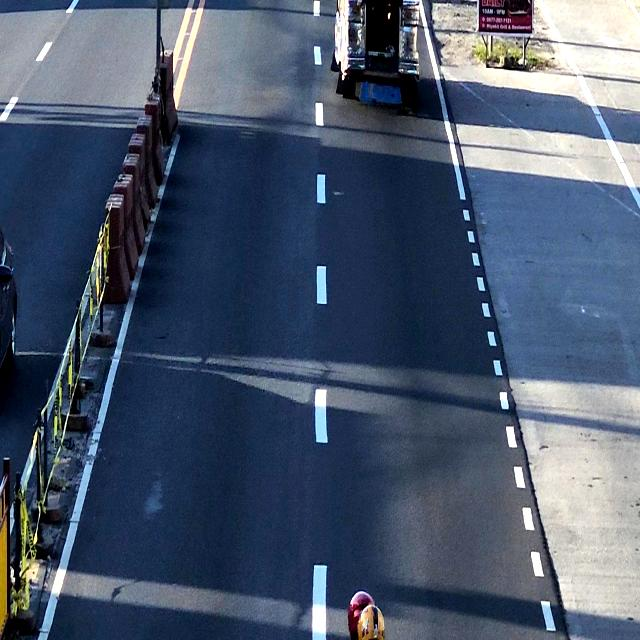Jeep: (330, 0, 420, 101)
Motorcycle: (348, 589, 391, 640)
